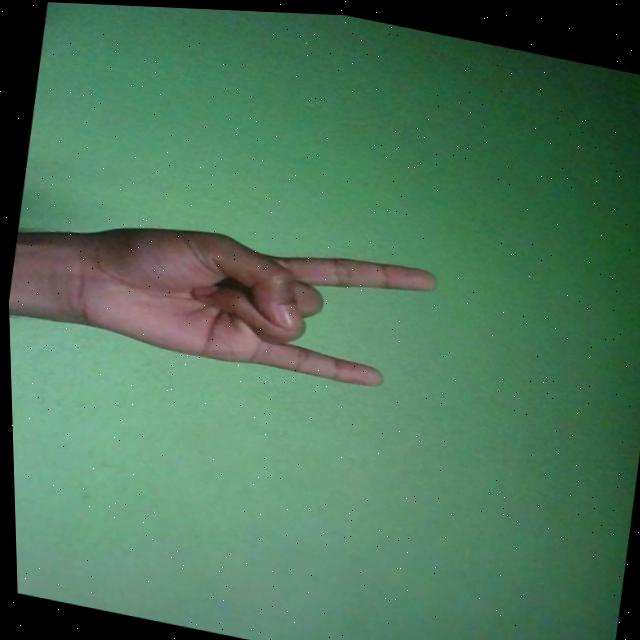Rock On: (58, 200, 440, 399)
